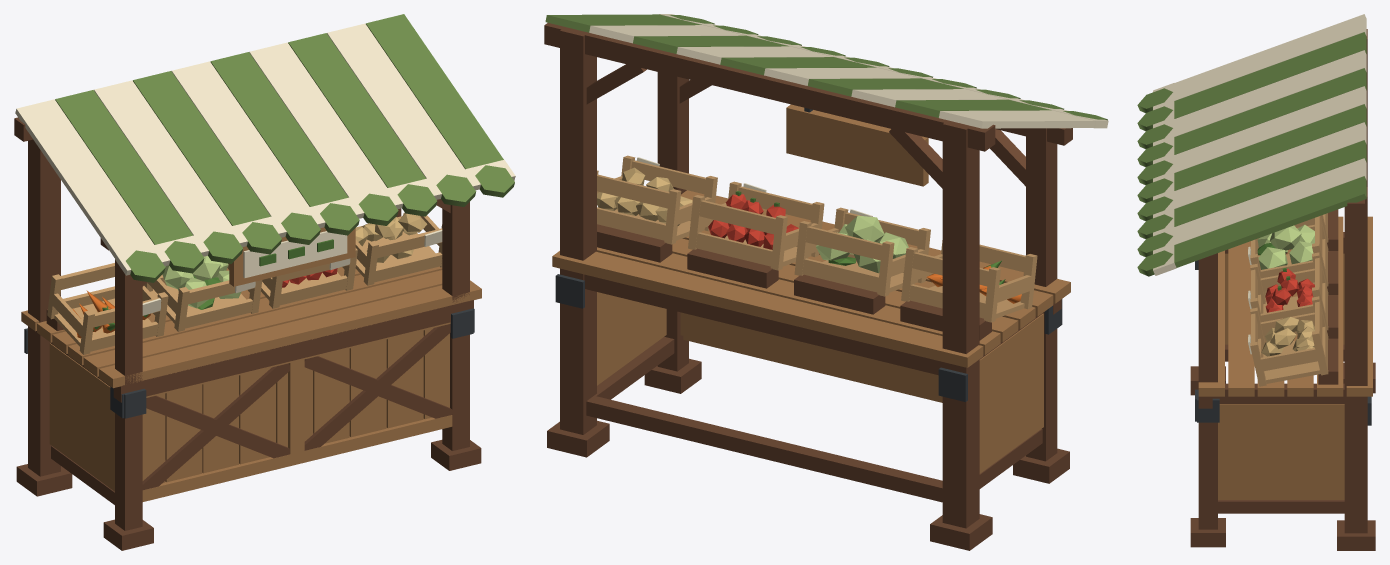
File: market-stall.m1.glb
The picture shows the model from 3 angles, left to right: view 1: azimuth 30°, elevation 25°; view 2: azimuth 150°, elevation 25°; view 3: azimuth 270°, elevation 25°; orthographic projection. The views are drawn at different scales.
Visible parts, largest first — view 1: awning_canvas_cream, awning_canvas_green, frame_timber, counter_front_apron, counter_deck_planks, counter_x_braces, awning_scallop_fringe, counter_side_panels, counter_frame_rails, crate_slot_carrots_shell, awning_valance_band, crate_slot_cabbages_shell (+7 smaller); view 2: frame_timber, counter_deck_planks, counter_side_panels, awning_canvas_cream, awning_canvas_green, counter_front_apron, crate_risers, sign_board, crate_slot_tomatoes_shell, crate_slot_cabbages_shell, counter_frame_rails, crate_slot_potatoes_shell (+7 smaller); view 3: awning_canvas_green, awning_canvas_cream, frame_timber, counter_side_panels, counter_deck_planks, awning_scallop_fringe, crate_slot_potatoes_shell, crate_slot_tomatoes_shell, crate_risers, awning_valance_band, produce_cabbages, counter_frame_rails (+4 smaller).
Part boxes in pixels (x1,y1,x2,y2): awning_canvas_cream: [15, 23, 464, 257]; awning_canvas_green: [55, 14, 503, 244]; frame_timber: [14, 117, 481, 550]; counter_front_apron: [142, 322, 452, 501]; counter_deck_planks: [21, 266, 481, 388]; counter_x_braces: [142, 324, 452, 490]; awning_scallop_fringe: [126, 165, 514, 282]; counter_side_panels: [49, 343, 114, 491]; counter_frame_rails: [51, 300, 473, 402]; crate_slot_carrots_shell: [47, 263, 168, 354]; awning_valance_band: [115, 159, 515, 275]; crate_slot_cabbages_shell: [144, 263, 262, 331]; frame_timber: [544, 23, 1072, 550]; counter_deck_planks: [552, 190, 1070, 367]; counter_side_panels: [597, 292, 1043, 473]; awning_canvas_cream: [589, 25, 1095, 128]; awning_canvas_green: [545, 14, 1051, 117]; counter_front_apron: [680, 312, 942, 402]; crate_risers: [597, 224, 991, 340]; sign_board: [786, 104, 928, 186]; crate_slot_tomatoes_shell: [688, 181, 824, 270]; crate_slot_cabbages_shell: [794, 207, 930, 296]; counter_frame_rails: [584, 274, 1061, 375]; crate_slot_potatoes_shell: [597, 155, 717, 244]; awning_canvas_green: [1174, 32, 1366, 267]; awning_canvas_cream: [1174, 14, 1366, 244]; frame_timber: [1190, 29, 1375, 550]; counter_side_panels: [1218, 253, 1344, 499]; counter_deck_planks: [1198, 216, 1372, 396]; awning_scallop_fringe: [1137, 88, 1172, 276]; crate_slot_potatoes_shell: [1250, 296, 1328, 386]; crate_slot_tomatoes_shell: [1250, 252, 1328, 341]; crate_risers: [1318, 209, 1338, 384]; awning_valance_band: [1153, 83, 1176, 275]; produce_cabbages: [1257, 224, 1314, 269]; counter_frame_rails: [1198, 232, 1344, 408].
Bounding box in the file's own units: 2.44 × 2.26 × 1.35.
